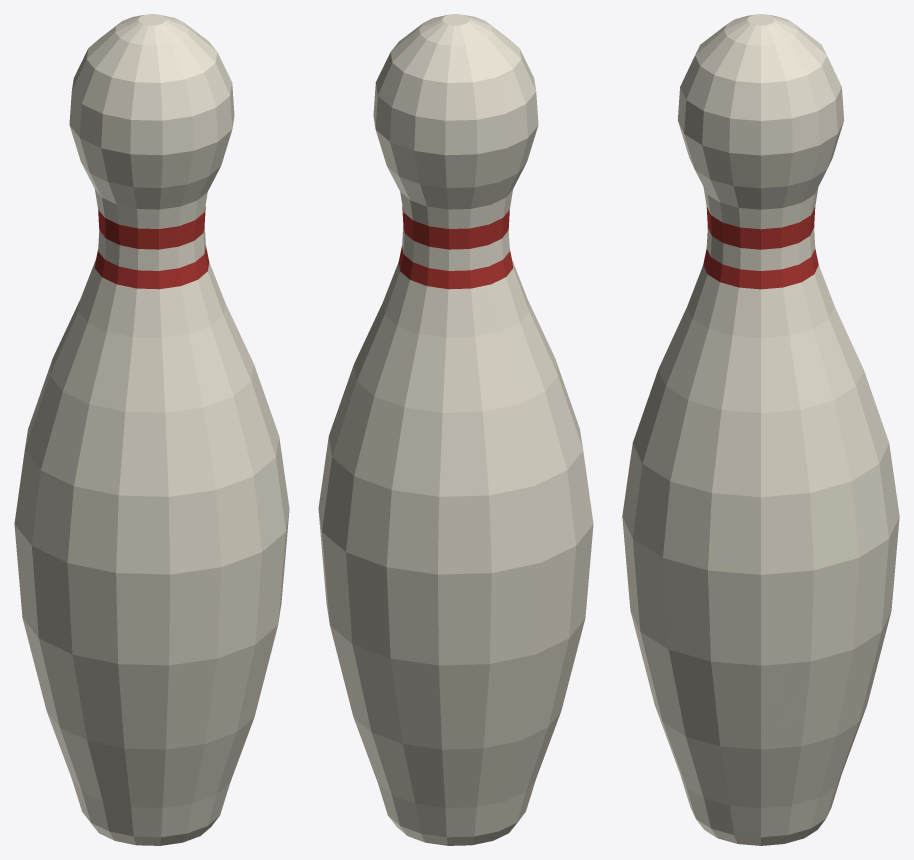
3 renders of one model, left to right at view 1: azimuth 30°, elevation 25°; view 2: azimuth 150°, elevation 25°; view 3: azimuth 270°, elevation 25°, orthographic.
Parts seen in each view (by area): view 1: ContinuousClosedBellyNeckAndHead; view 2: ContinuousClosedBellyNeckAndHead; view 3: ContinuousClosedBellyNeckAndHead.
Boxes of the visible parts, x1,y1,x2,y2 form: ContinuousClosedBellyNeckAndHead: (14,14,289,845); ContinuousClosedBellyNeckAndHead: (318,14,593,845); ContinuousClosedBellyNeckAndHead: (622,14,899,845).
Bounding box in the file's own units: 0.12 × 0.382 × 0.12.
